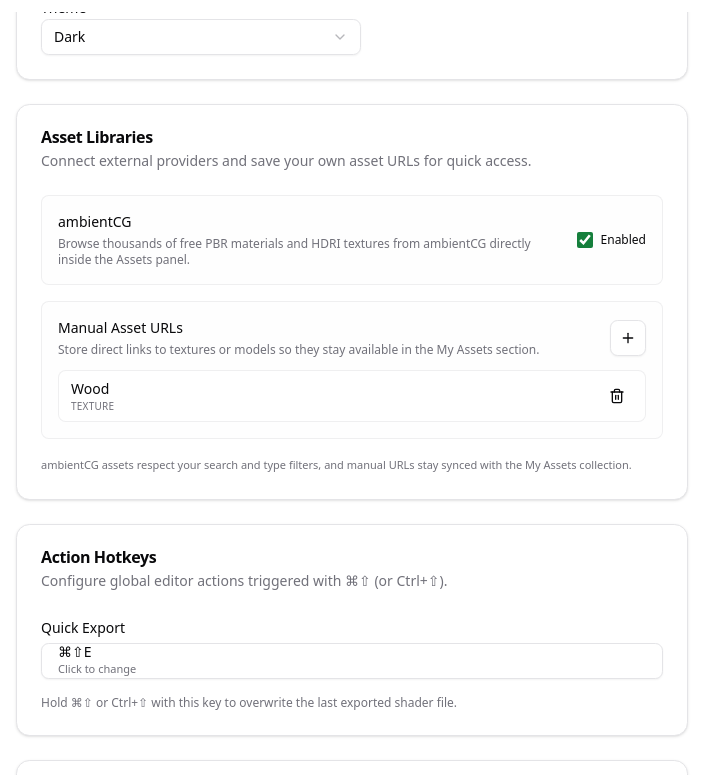
Test: SettingsPage asset libraries › lets users remove saved manual assets
The image size is (705, 775).
(page scrolled)
Expected: the text "Wood" is shown, [71,379,114,399]
Click the button named "remove wood": (617, 396) [601,380,633,412]
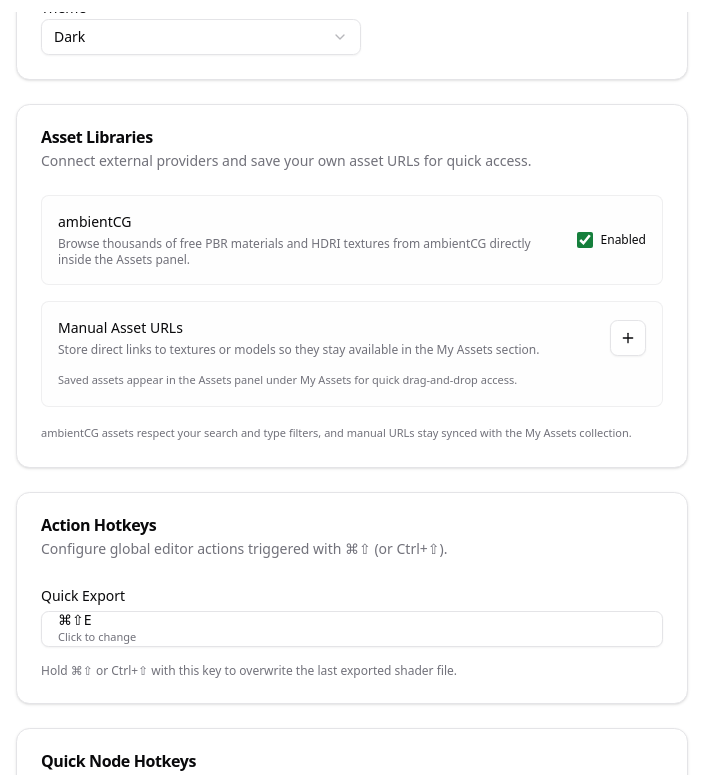
Expected: the text "Wood" is gone
